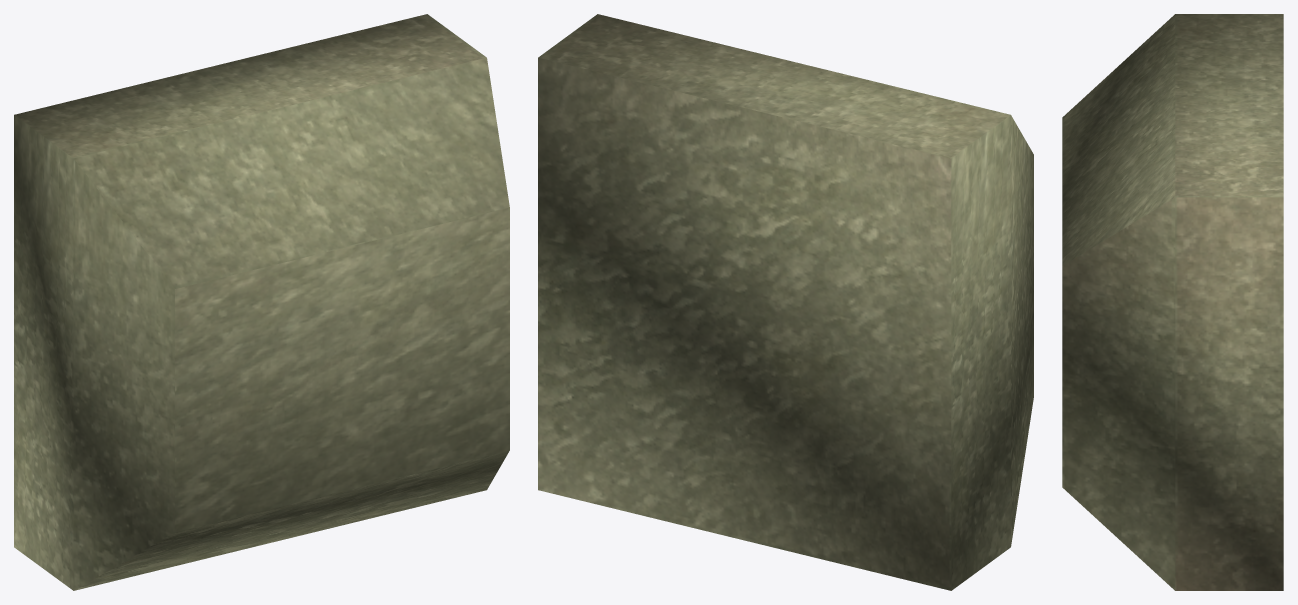
The model's file is Messing.fbx.
3 renders of one model, left to right at view 1: azimuth 30°, elevation 25°; view 2: azimuth 150°, elevation 25°; view 3: azimuth 270°, elevation 25°, orthographic. The views are drawn at different scales.
Parts seen in each view (by area): view 1: Questitem_Messingbarren; view 2: Questitem_Messingbarren; view 3: Questitem_Messingbarren.
Boxes of the visible parts, box(x1,y1,x2,y2) form: Questitem_Messingbarren: box(14, 14, 509, 590); Questitem_Messingbarren: box(538, 14, 1033, 590); Questitem_Messingbarren: box(1062, 14, 1283, 590).
Bounding box in the file's own units: 2.14 × 2.14 × 1.09.
1 material, 1 textured.
